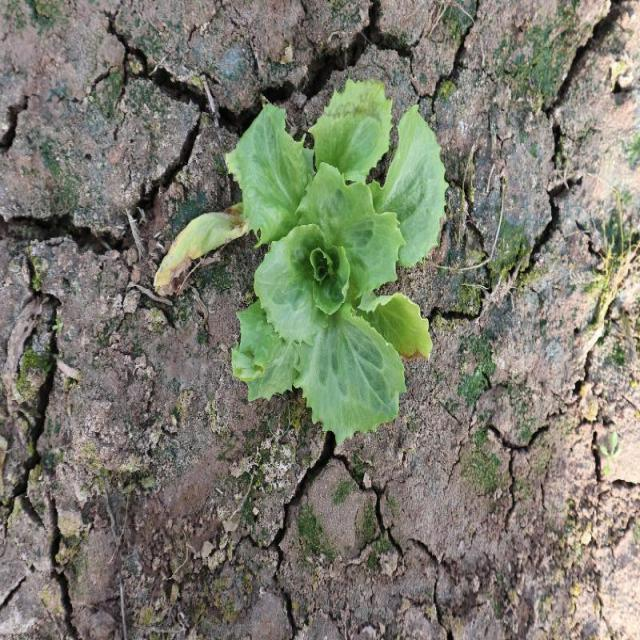crop: (226, 79, 446, 440)
